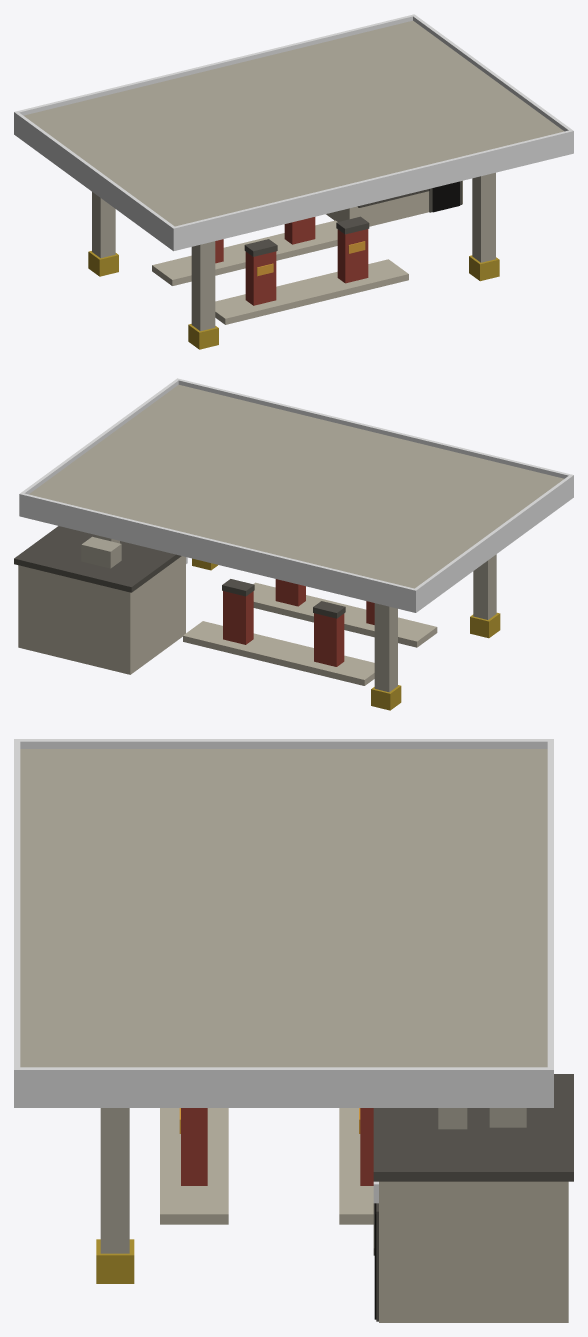
3 views of the same model, one above another, from view 1: azimuth 30°, elevation 25°; view 2: azimuth 150°, elevation 25°; view 3: azimuth 270°, elevation 25° (orthographic). The views are drawn at different scales.
Parts seen in each view (by area): view 1: site_gas_station_restored; view 2: site_gas_station_restored; view 3: site_gas_station_restored.
Boxes of the visible parts, <box> form: site_gas_station_restored: <box>14,14,573,349</box>; site_gas_station_restored: <box>14,378,573,710</box>; site_gas_station_restored: <box>14,739,573,1322</box>.
Bounding box in the file's own units: 14.84 × 5.35 × 10.62.
